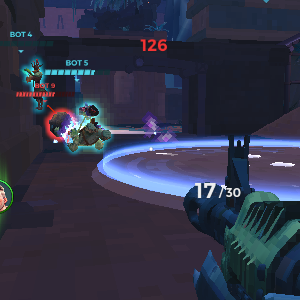model: (44, 105, 75, 142)
